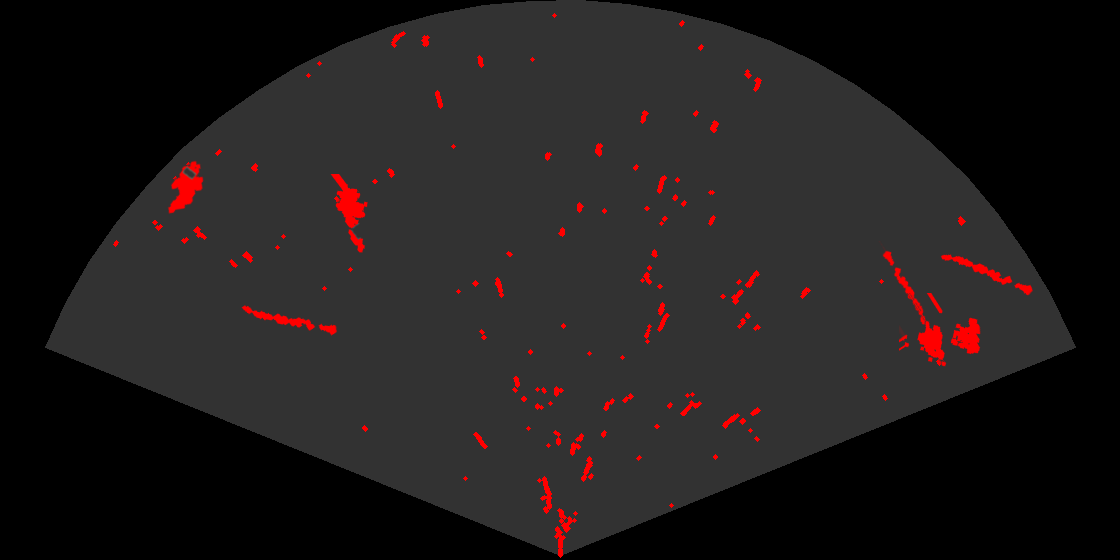AUV: (166, 159, 205, 216)
cage: (899, 293, 982, 368)
chain: (877, 241, 928, 327), (939, 253, 1034, 297), (240, 304, 339, 337)
frogman: (329, 174, 369, 254)
